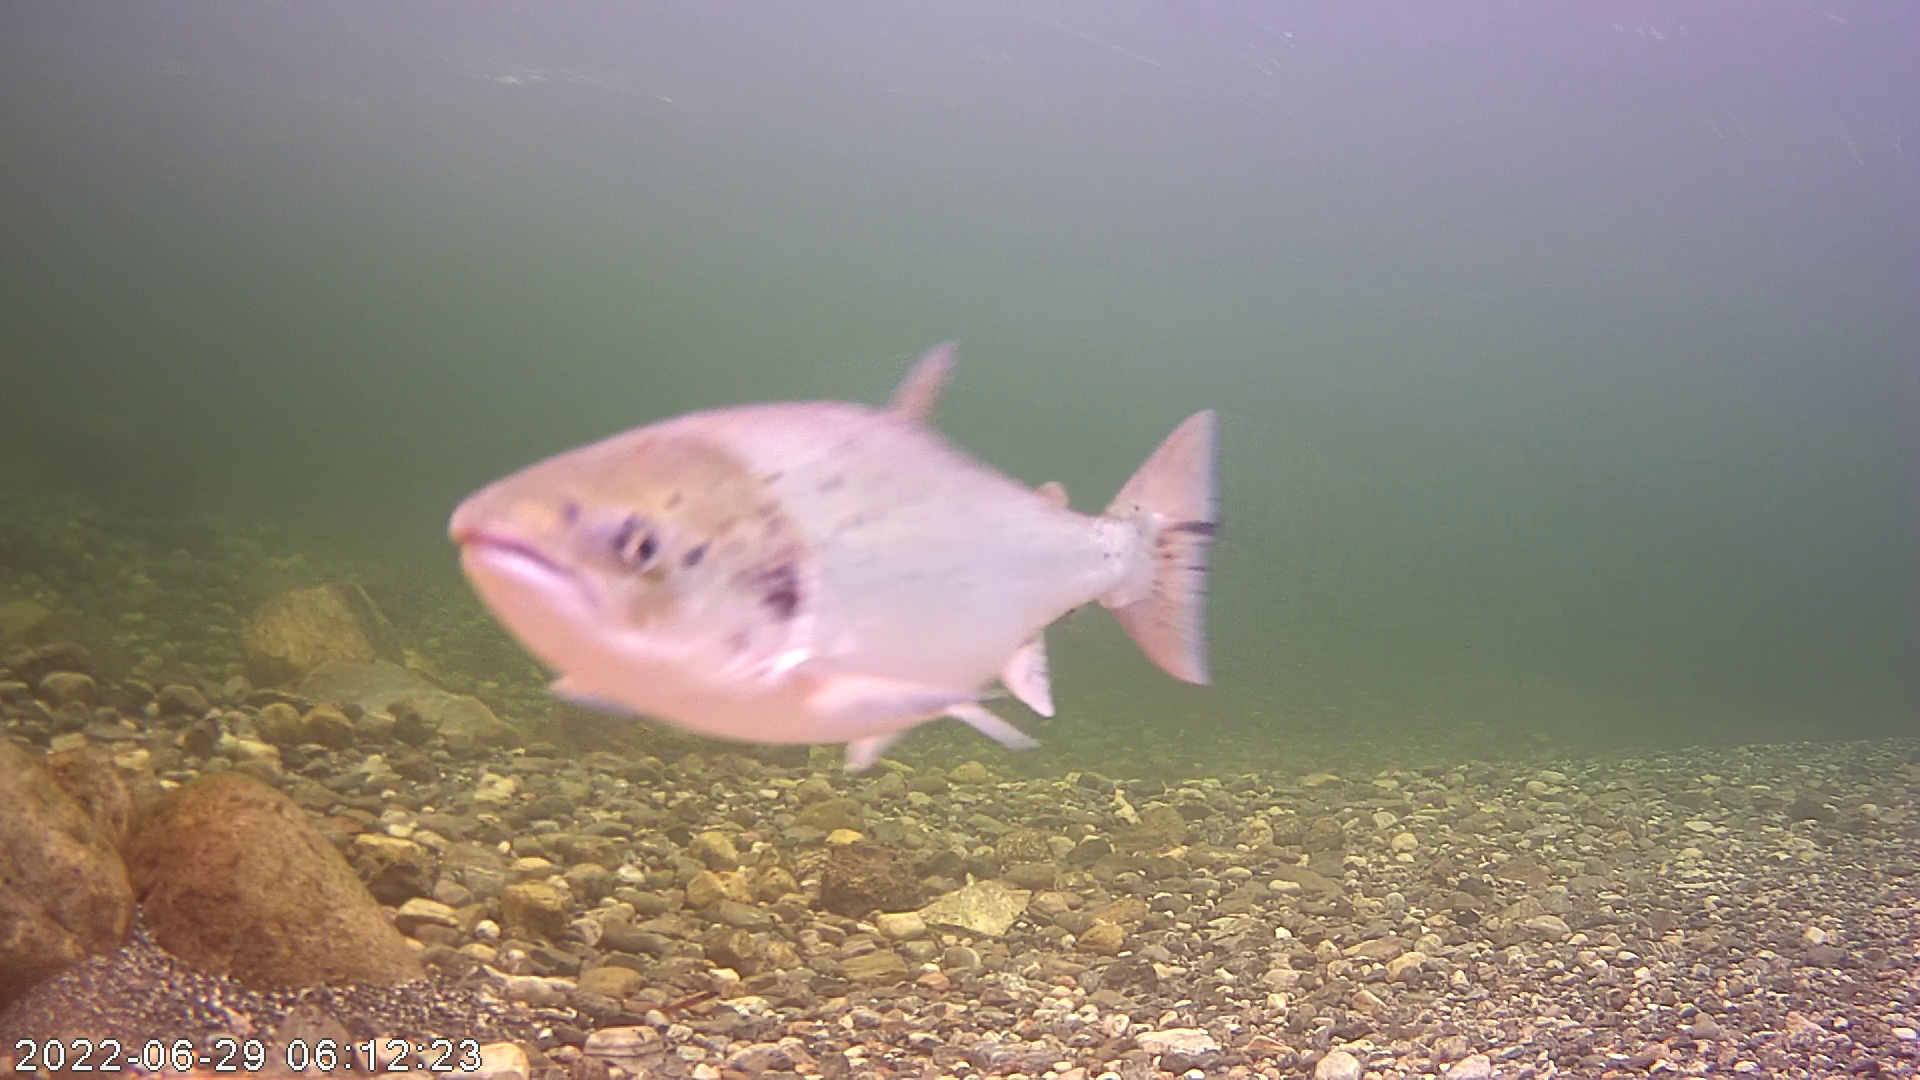salmon: (430, 295, 1237, 773)
